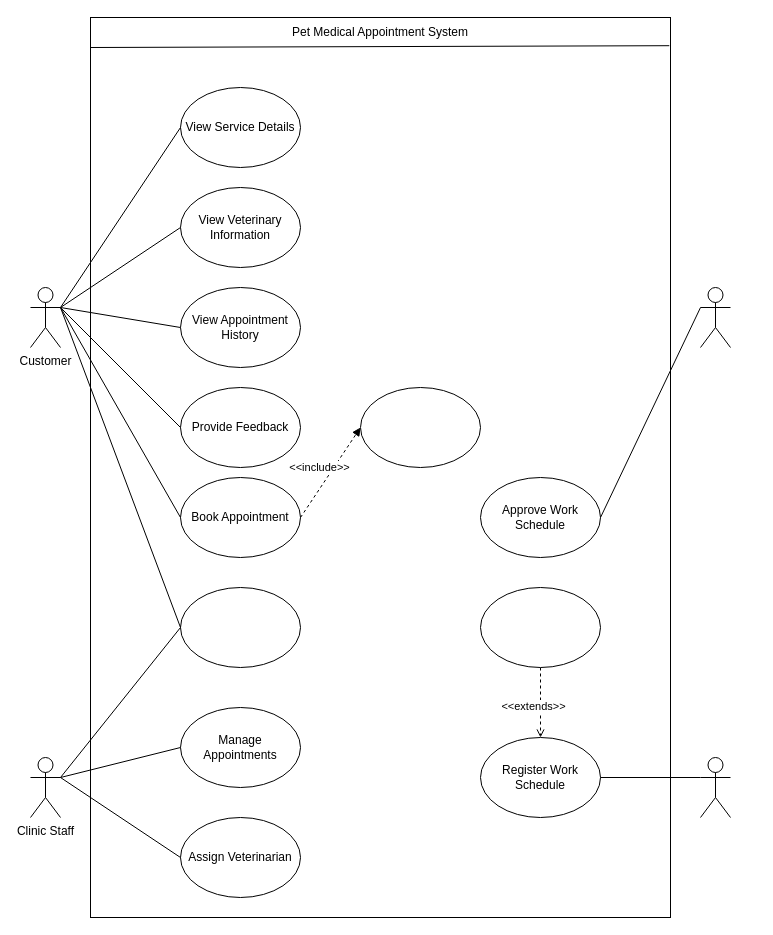
Image size: 773x935. Some labels were removed from this diagram. The centre of each missing label's shape, as x and y in pixels:
"Cancel Appointment" belongs at [240,627].
"Clinic Manager" belongs at [715,787].
"Make Payment" belongs at [420,427].
"Request Work Schedule Cancellation" belongs at [540,627].
"Veterinarian" belongs at [715,317].
